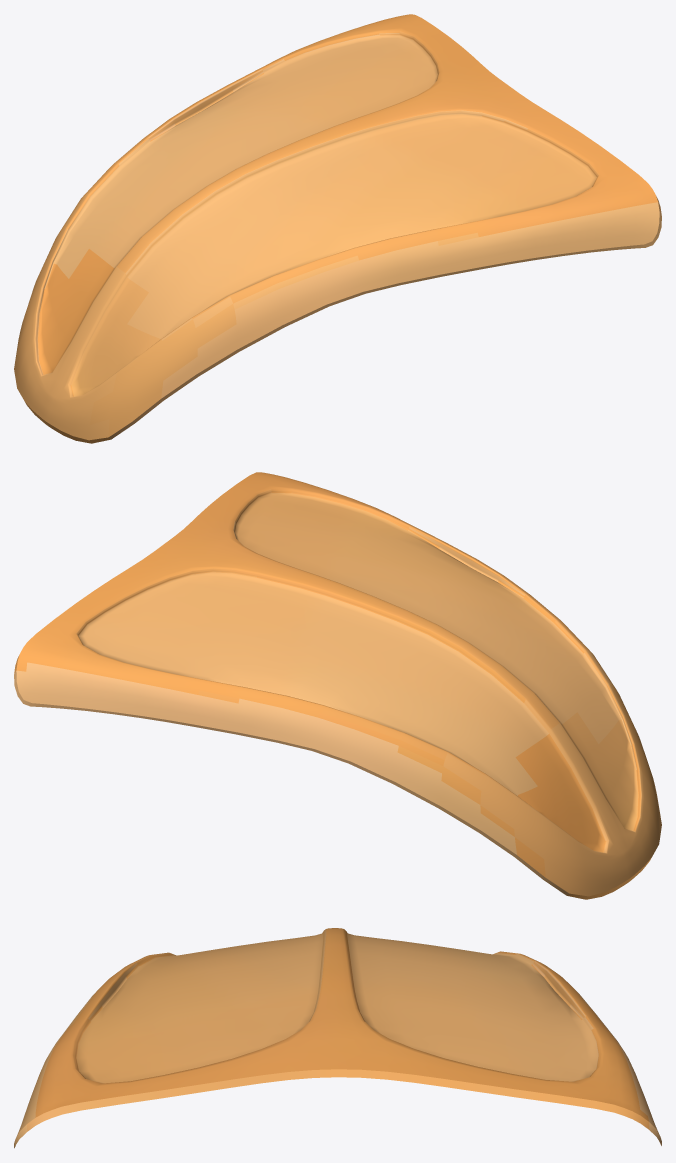
File: cofre_texturizado.obj
3 views of the same model, one above another, from view 1: azimuth 30°, elevation 25°; view 2: azimuth 150°, elevation 25°; view 3: azimuth 270°, elevation 25° (orthographic). The views are drawn at different scales.
Visible parts, largest first — view 1: Bonnet; view 2: Bonnet; view 3: Bonnet.
Boxes of the visible parts, left/top/right/bottom form: Bonnet: left=14, top=14, right=661, bottom=443; Bonnet: left=14, top=472, right=661, bottom=899; Bonnet: left=14, top=928, right=661, bottom=1148.
Size of the model in its own units: 40.61 by 18.13 by 38.82.
